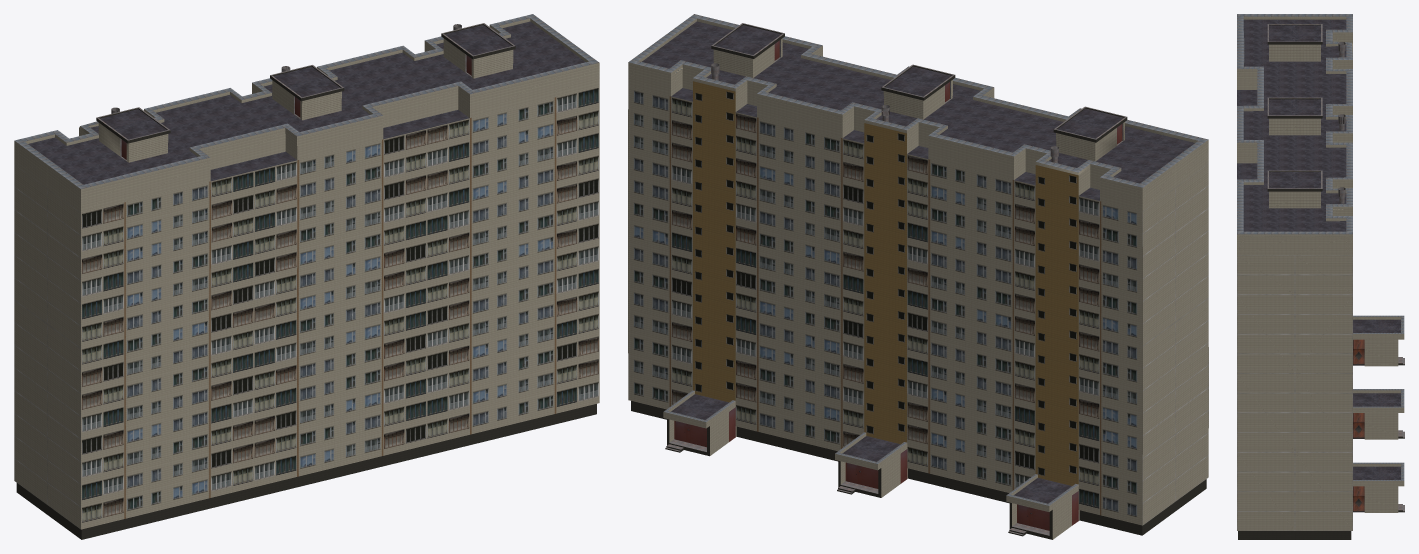
3 renders of one model, left to right at view 1: azimuth 30°, elevation 25°; view 2: azimuth 150°, elevation 25°; view 3: azimuth 270°, elevation 25°, orthographic. The views are drawn at different scales.
Visible parts, largest first — view 1: panelndom_14a; view 2: panelndom_14a; view 3: panelndom_14a.
Boxes of the visible parts, x1=… form: panelndom_14a: x1=14, y1=14, x2=599, y2=539; panelndom_14a: x1=628, y1=14, x2=1208, y2=539; panelndom_14a: x1=1237, y1=14, x2=1404, y2=539.
Bounding box in the file's own units: 72.03 × 49.31 × 23.19.
Materials: 20 (20 with a texture image).
